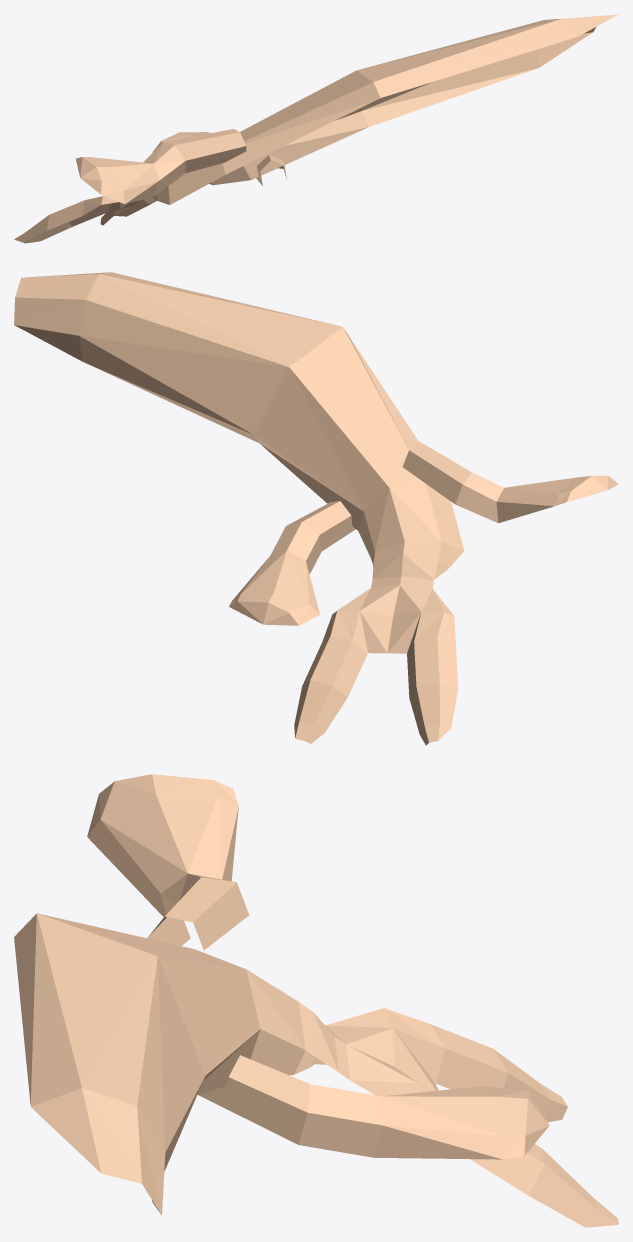
The picture shows the model from 3 angles, top to bottom: view 1: azimuth 30°, elevation 25°; view 2: azimuth 150°, elevation 25°; view 3: azimuth 270°, elevation 25°; orthographic projection. The views are drawn at different scales.
Bounding box in the file's own units: 0.0673 × 0.028 × 0.0354.
